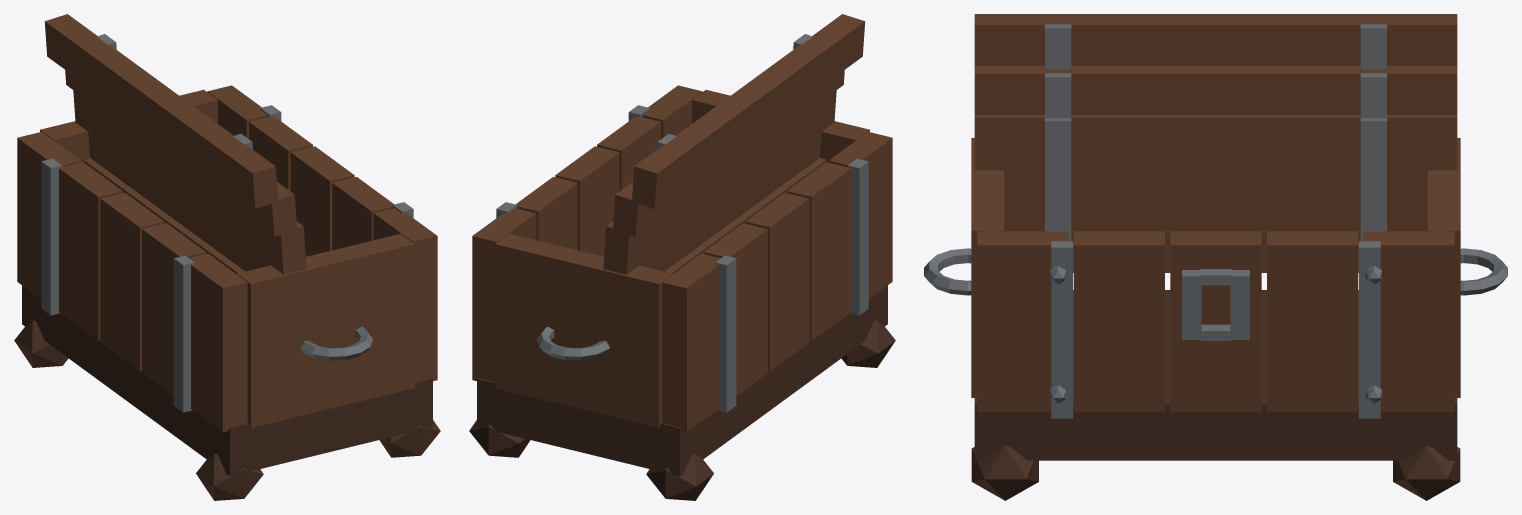
File: ChestOpen__Empty.fbx
3 renders of one model, left to right at view 1: azimuth 30°, elevation 25°; view 2: azimuth 150°, elevation 25°; view 3: azimuth 270°, elevation 25°, orthographic. The views are drawn at different scales.
Visible parts, largest first — view 1: ChestOpen__Empty; view 2: ChestOpen__Empty; view 3: ChestOpen__Empty.
Part boxes in pixels (<box>): ChestOpen__Empty: <box>14,14,440,500</box>; ChestOpen__Empty: <box>469,14,895,500</box>; ChestOpen__Empty: <box>924,14,1507,500</box>.
Size of the model in its own units: 73.02 by 97.13 by 133.
Materials: 1 (1 with a texture image).
